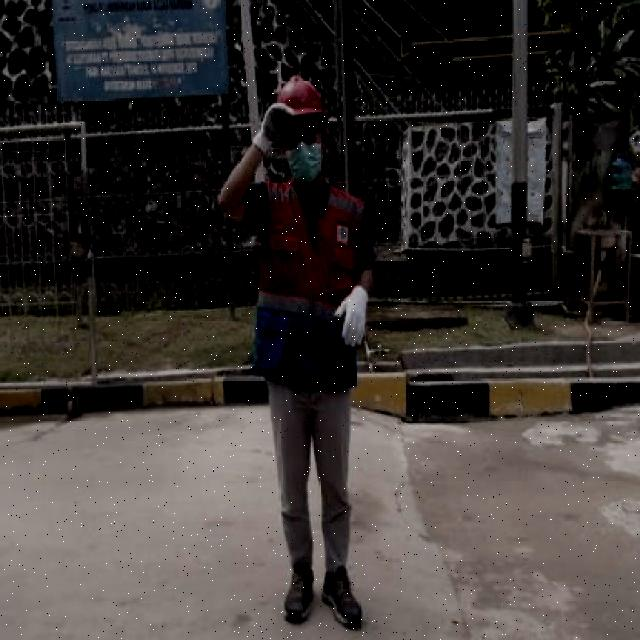Boots: (324, 562, 364, 630), (278, 556, 316, 621)
Gloves: (334, 283, 372, 352), (248, 101, 294, 156)
Helmet: (269, 75, 337, 118)
